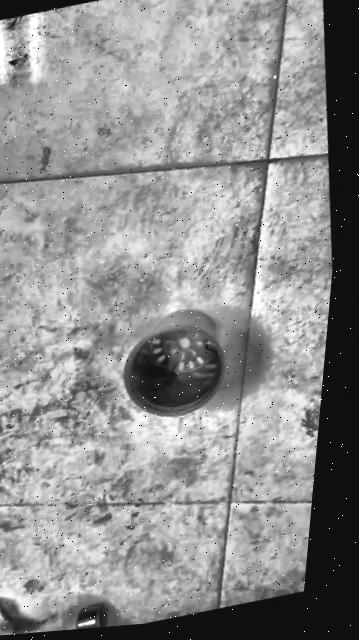pot: (111, 302, 233, 426)
